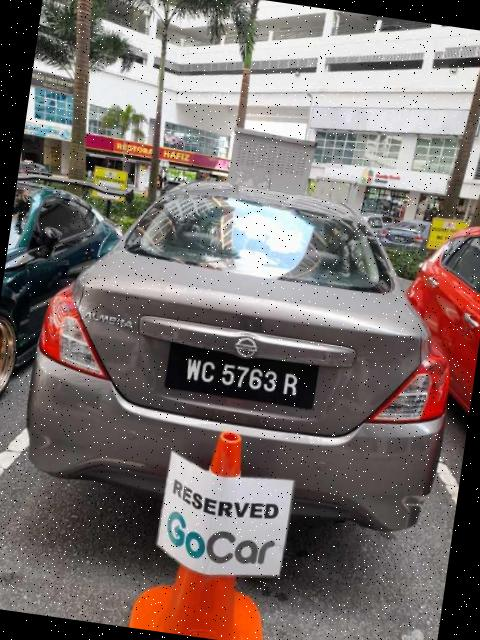License_Plate: (164, 341, 321, 411)
car: (16, 159, 477, 544)
